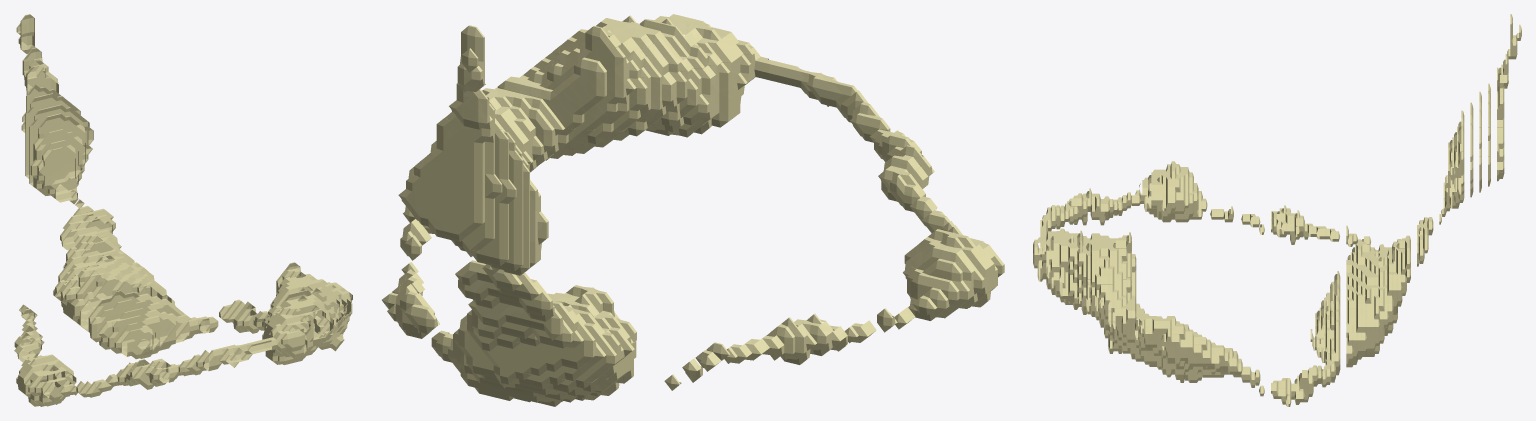
The model's file is SVV_OLQVL.gltf.
3 views of the same model, side by side, from view 1: azimuth 30°, elevation 25°; view 2: azimuth 150°, elevation 25°; view 3: azimuth 270°, elevation 25° (orthographic). The views are drawn at different scales.
Visible parts, largest first — view 1: OLQVL; view 2: OLQVL; view 3: OLQVL.
Part boxes in pixels (x1,y1,x2,y2): OLQVL: (14, 14, 352, 406); OLQVL: (382, 14, 1004, 406); OLQVL: (1033, 14, 1521, 406).
Bounding box in the file's own units: 36365 × 31250 × 42391.
